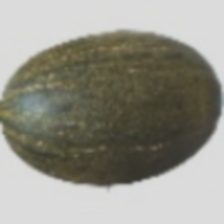honeydew: (58, 58, 201, 208)
